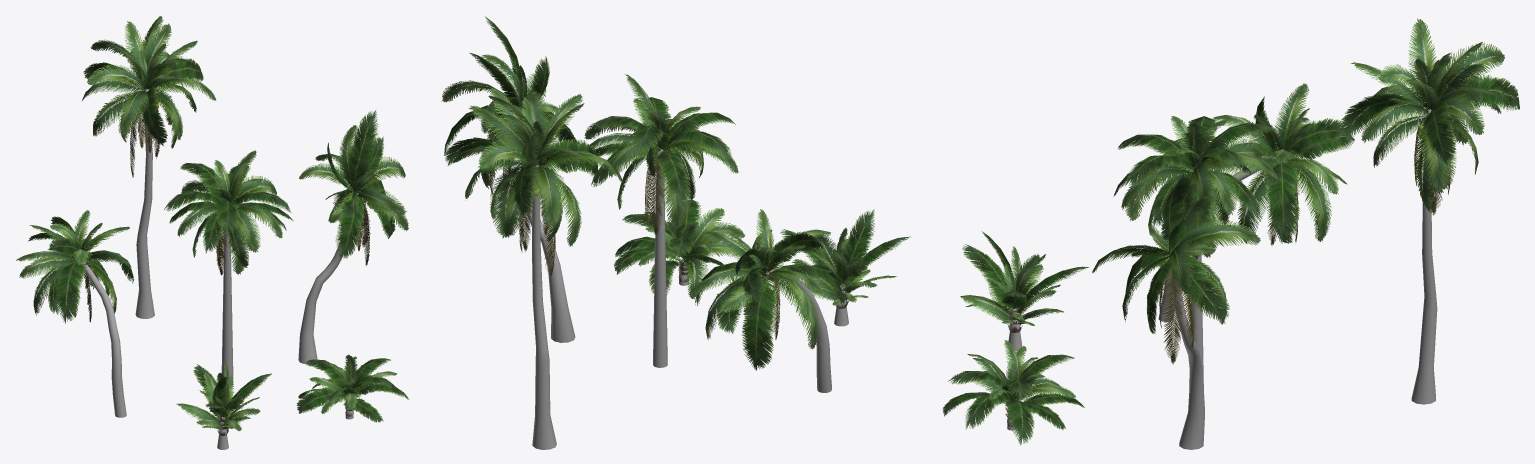
The model's file is palm1.obj.
3 renders of one model, left to right at view 1: azimuth 30°, elevation 25°; view 2: azimuth 150°, elevation 25°; view 3: azimuth 270°, elevation 25°, orthographic. The views are drawn at different scales.
Parts seen in each view (by area): view 1: polySurface342, polySurface335, polySurface336, polySurface343, polySurface338, polySurface339, polySurface290_polySurface62, polySurface234_polySurface63, polySurface262_polySurface141, polySurface229_polySurface36; view 2: polySurface342, polySurface343, polySurface335, polySurface338, polySurface336, polySurface339, polySurface290_polySurface62, polySurface229_polySurface36, polySurface262_polySurface141, polySurface234_polySurface63; view 3: polySurface342, polySurface336, polySurface335, polySurface343, polySurface338, polySurface339, polySurface290_polySurface62, polySurface262_polySurface141, polySurface229_polySurface36, polySurface234_polySurface63.
Boxes of the visible parts, box(x1,y1,x2,y2) form: polySurface342: box(82, 16, 215, 177); polySurface335: box(164, 150, 293, 275); polySurface336: box(299, 110, 408, 265); polySurface343: box(16, 210, 134, 323); polySurface338: box(296, 354, 409, 422); polySurface339: box(176, 361, 271, 435); polySurface290_polySurface62: box(135, 88, 154, 318); polySurface234_polySurface63: box(82, 263, 126, 417); polySurface262_polySurface141: box(298, 192, 352, 364); polySurface229_polySurface36: box(221, 228, 233, 378); polySurface342: box(444, 87, 622, 278); polySurface343: box(693, 209, 844, 370); polySurface335: box(584, 74, 738, 235); polySurface338: box(614, 199, 745, 299); polySurface336: box(441, 16, 575, 204); polySurface339: box(780, 209, 910, 308); polySurface290_polySurface62: box(532, 163, 556, 449); polySurface229_polySurface36: box(653, 148, 667, 367); polySurface262_polySurface141: box(522, 160, 575, 342); polySurface234_polySurface63: box(766, 271, 831, 392); polySurface342: box(1339, 18, 1519, 215); polySurface336: box(1092, 172, 1260, 364); polySurface335: box(1113, 116, 1278, 259); polySurface343: box(1212, 83, 1354, 245); polySurface338: box(942, 340, 1084, 445); polySurface339: box(960, 231, 1089, 332); polySurface290_polySurface62: box(1411, 109, 1437, 404); polySurface262_polySurface141: box(1170, 261, 1204, 449); polySurface229_polySurface36: box(1189, 245, 1203, 388); polySurface234_polySurface63: box(1158, 157, 1275, 321).
Size of the model in its own units: 67.39 by 51.63 by 74.4.
